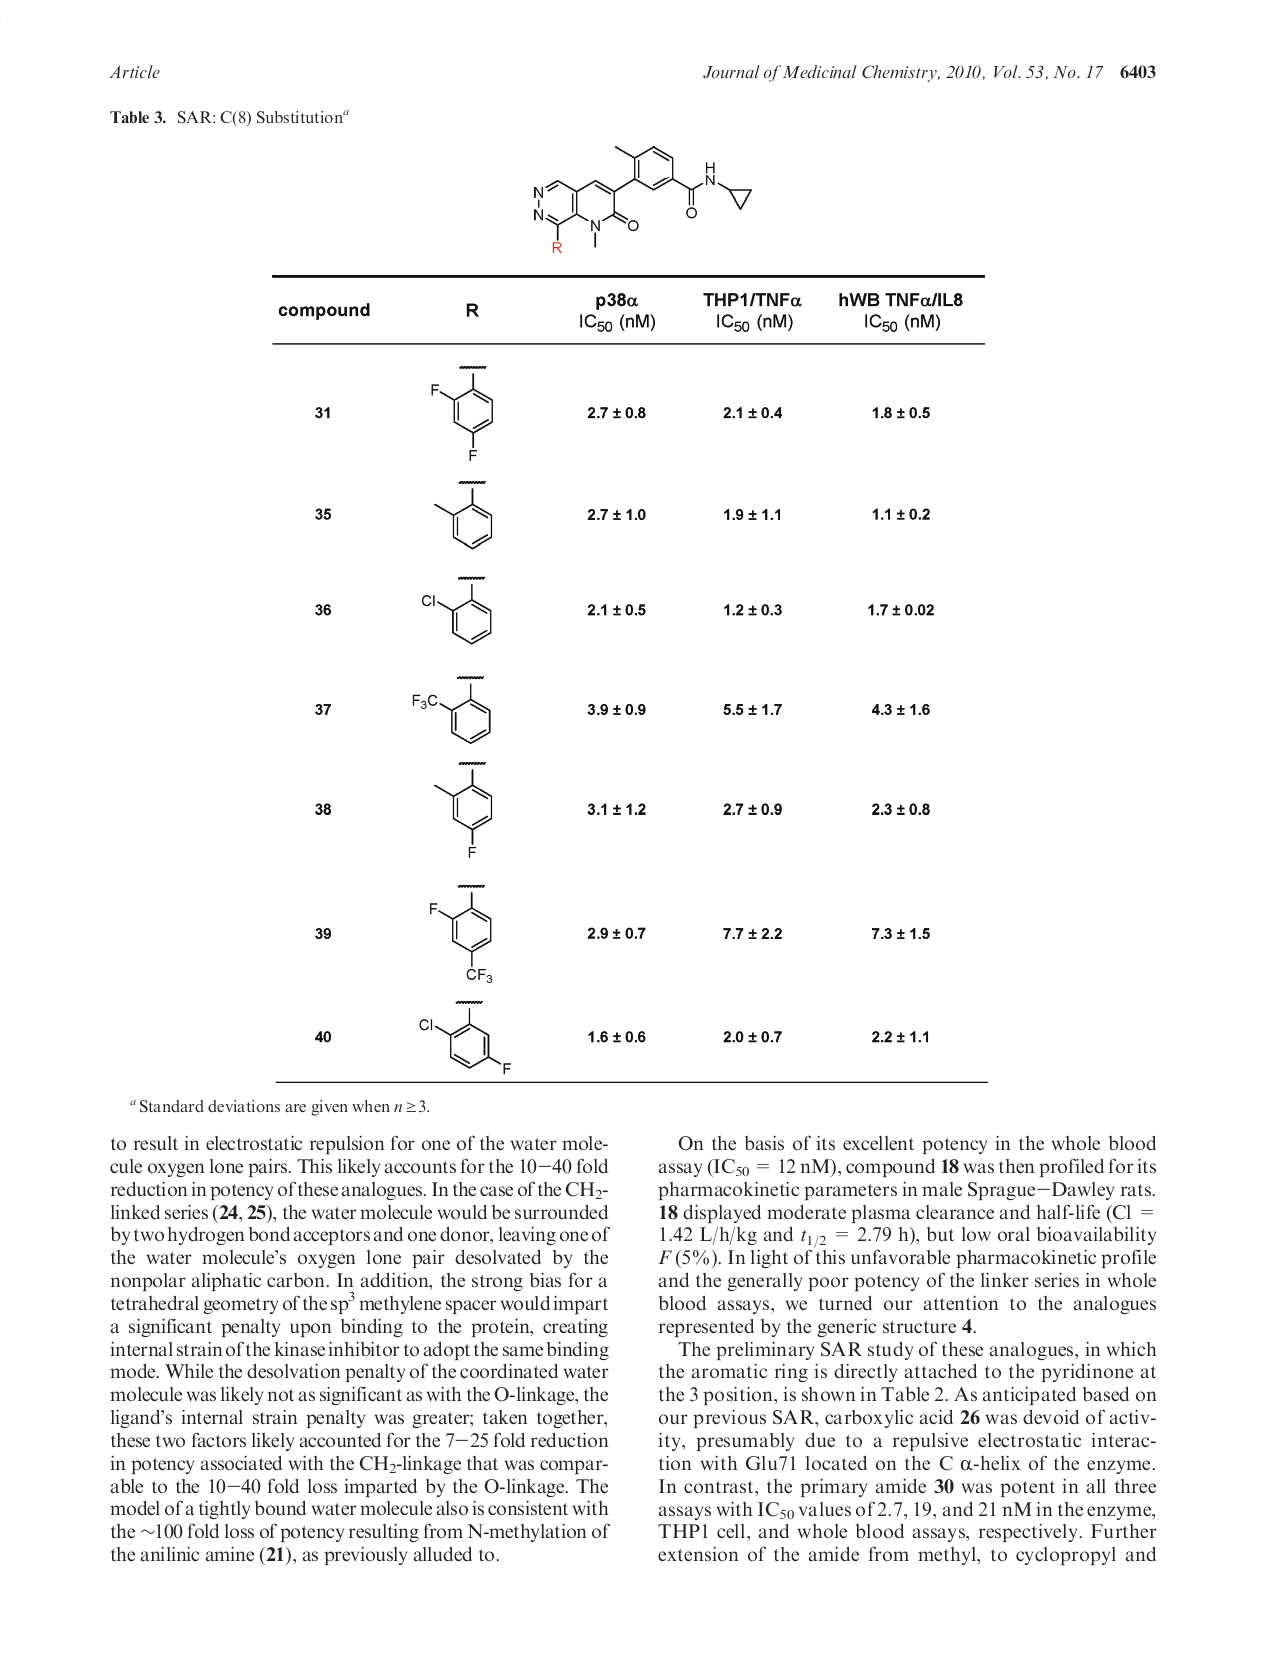exist_molecular: (531, 144, 754, 255), (418, 999, 515, 1079), (428, 882, 493, 984), (430, 363, 496, 461), (432, 759, 495, 860), (411, 676, 493, 746), (420, 573, 493, 646), (434, 479, 493, 552)
